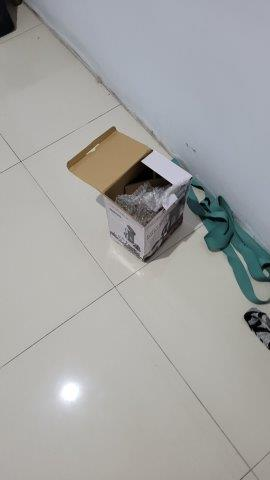kardus: (67, 126, 191, 262)
